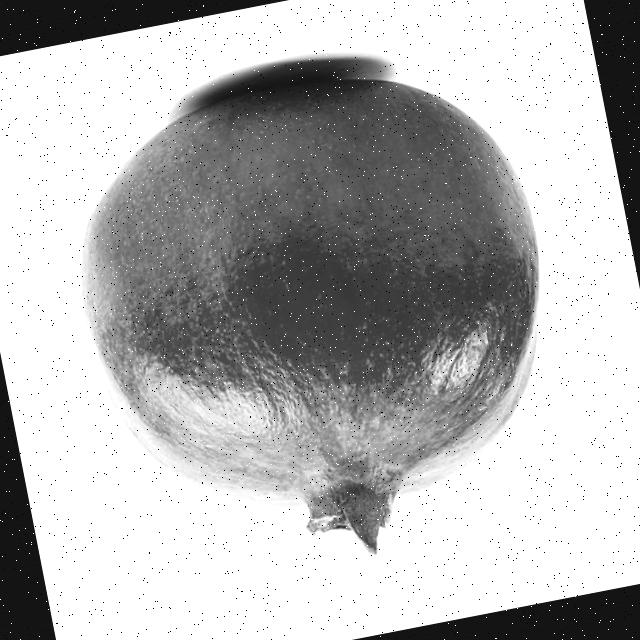Ripe: (40, 35, 598, 610)
